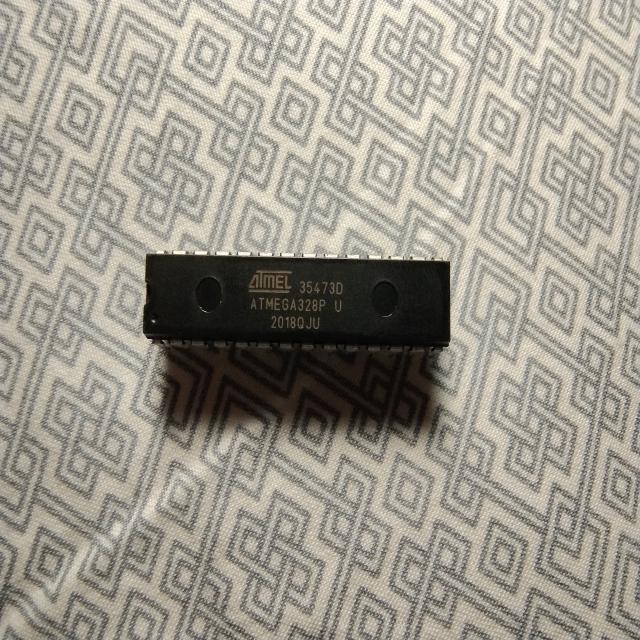atmega: (141, 247, 453, 356)
